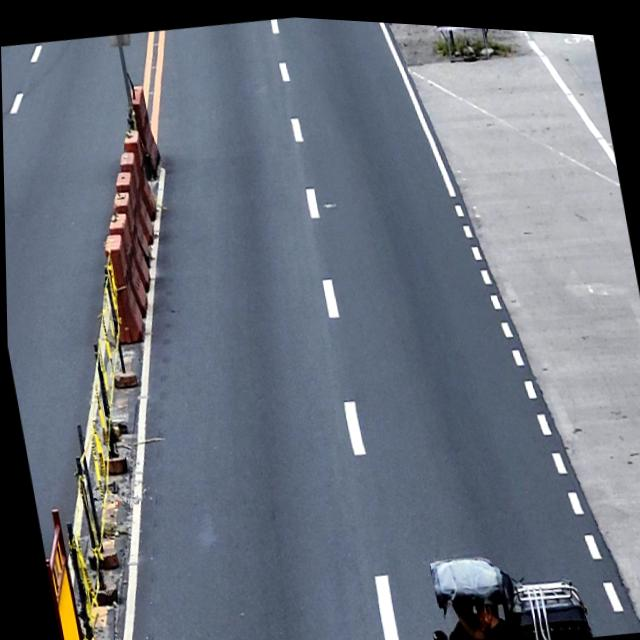Tricycle: (414, 527, 592, 640)
